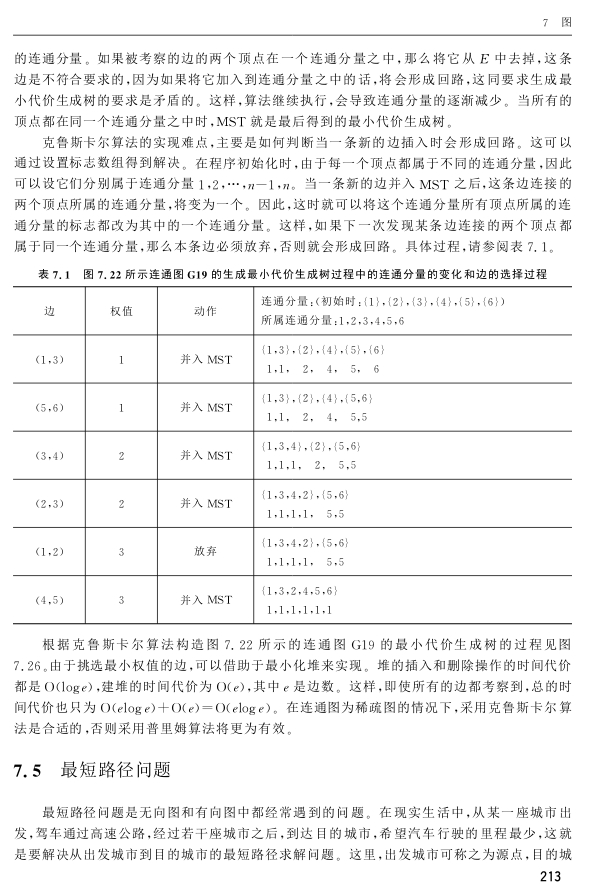table: (13, 286, 573, 625)
